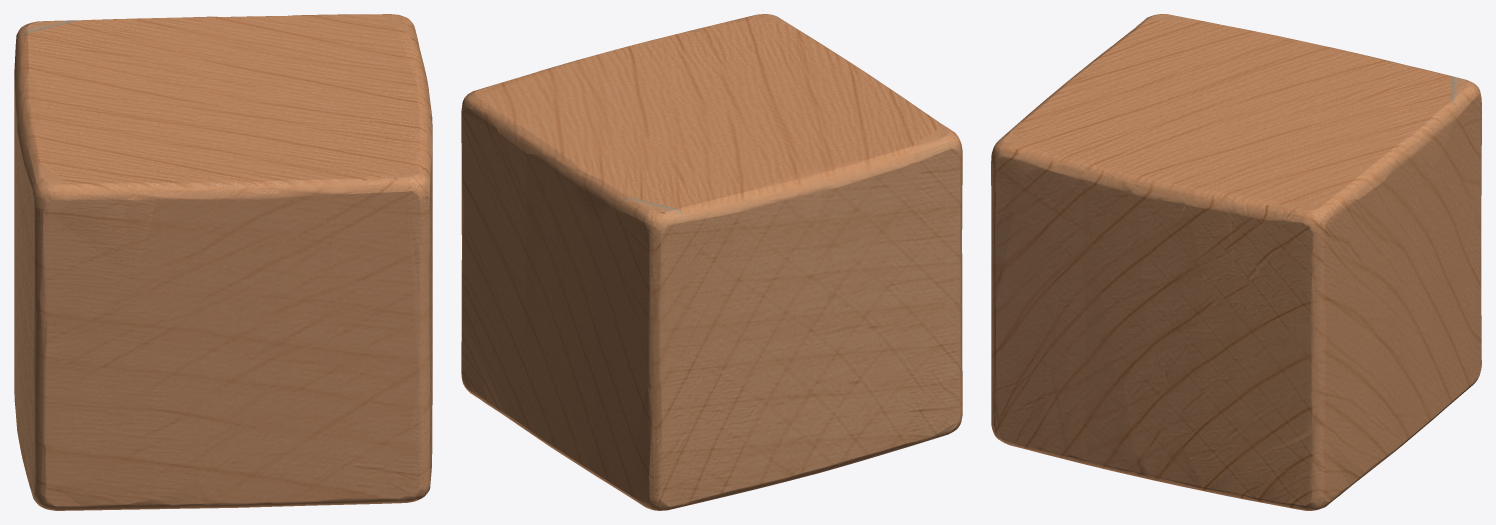
File: wooden_block.glb
3 views of the same model, side by side, from view 1: azimuth 30°, elevation 25°; view 2: azimuth 150°, elevation 25°; view 3: azimuth 270°, elevation 25° (orthographic). The views are drawn at different scales.
Visible parts, largest first — view 1: output_unwrapped; view 2: output_unwrapped; view 3: output_unwrapped.
Part boxes in pixels (left/top/right/bottom): output_unwrapped: left=14, top=14, right=432, bottom=510; output_unwrapped: left=461, top=14, right=962, bottom=510; output_unwrapped: left=991, top=14, right=1481, bottom=510.
Size of the model in its own units: 1.9 by 1.29 by 1.9.
1 material, 1 textured.
